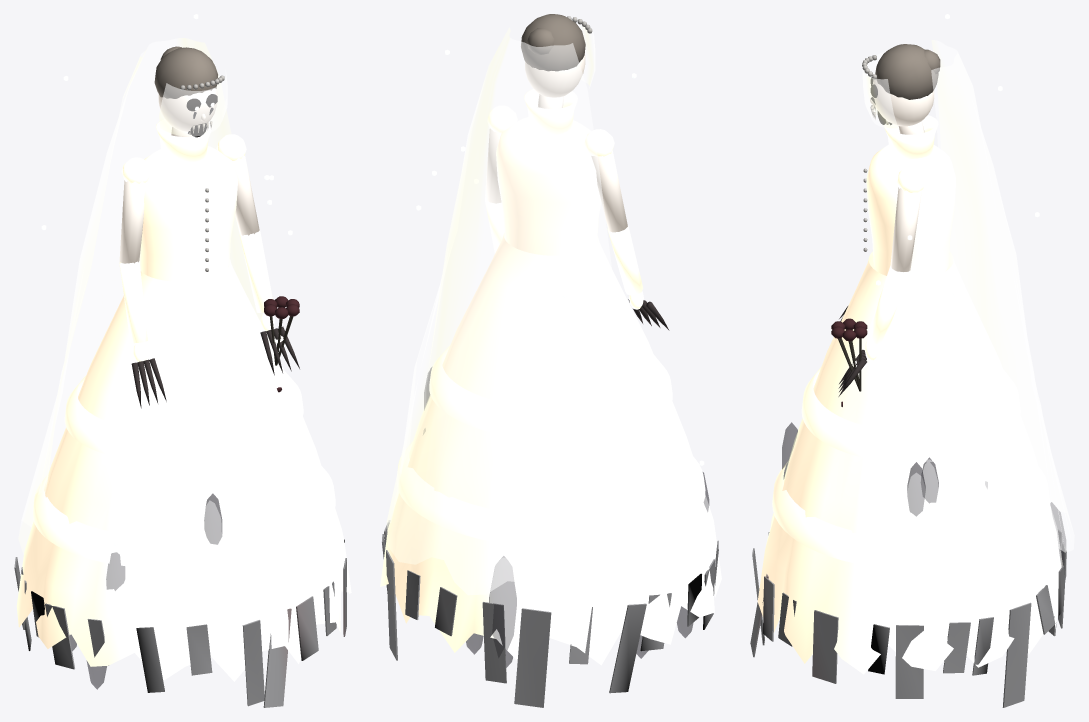
The model's file is ghost_bride.glb.
The picture shows the model from 3 angles, left to right: view 1: azimuth 30°, elevation 25°; view 2: azimuth 150°, elevation 25°; view 3: azimuth 270°, elevation 25°; orthographic projection. The views are drawn at different scales.
Visible parts, largest first — view 1: Bride_Root_BridalGlow, Bride_Root_BridalLace, Veil, Bride_Root_HRag_99999e, Blusher, Head_PaleHair, ArmA_BridalLace, ArmB_BridalLace, UpperArmA, Bride_Root_HSmoke, Head_GhostSkin, UpperArmB (+3 smaller); view 2: Veil, Bride_Root_BridalGlow, Bride_Root_BridalLace, Bride_Root_HRag_99999e, Head_PaleHair, Bride_Root_HSmoke, ArmA_BridalLace, Head_GhostSkin, UpperArmA, ArmB_BridalLace, UpperArmB, Blusher; view 3: Bride_Root_BridalGlow, Veil, Bride_Root_BridalLace, Bride_Root_HRag_99999e, Head_PaleHair, ArmB_BridalLace, Bride_Root_HSmoke, UpperArmB, Head_GhostSkin, Blusher, ArmB_DeadRose.
Boxes of the visible parts, x1,y1,x2,y2 form: Bride_Root_BridalGlow: (16,146,351,681); Bride_Root_BridalLace: (32,119,335,568); Veil: (18,38,267,554); Bride_Root_HRag_99999e: (14,539,346,707); Blusher: (159,70,227,136); Head_PaleHair: (154,46,217,98); ArmA_BridalLace: (119,157,151,362); ArmB_BridalLace: (216,134,283,342); UpperArmA: (119,180,146,263); Bride_Root_HSmoke: (69,493,222,689); Head_GhostSkin: (158,88,217,136); UpperArmB: (232,155,259,235); Veil: (386,27,646,596); Bride_Root_BridalGlow: (380,117,721,665); Bride_Root_BridalLace: (397,89,705,548); Bride_Root_HRag_99999e: (382,520,718,707); Head_PaleHair: (521,14,585,71); Bride_Root_HSmoke: (424,367,709,667); ArmA_BridalLace: (584,129,643,309); Head_GhostSkin: (525,54,585,108); UpperArmA: (591,150,627,232); ArmB_BridalLace: (485,105,517,252); UpperArmB: (485,128,501,203); Blusher: (577,24,595,88); Bride_Root_BridalGlow: (757,145,1062,674); Veil: (931,40,1074,590); Bride_Root_BridalLace: (772,115,1050,568); Bride_Root_HRag_99999e: (750,530,1066,707); Head_PaleHair: (875,44,940,99); ArmB_BridalLace: (852,166,924,368); Bride_Root_HSmoke: (782,422,1066,579); UpperArmB: (890,187,921,271); Head_GhostSkin: (870,79,934,134); Blusher: (862,51,897,128); ArmB_DeadRose: (831,318,867,406).
Bounding box in the file's own units: 0.9384 × 1.85 × 0.8912.
